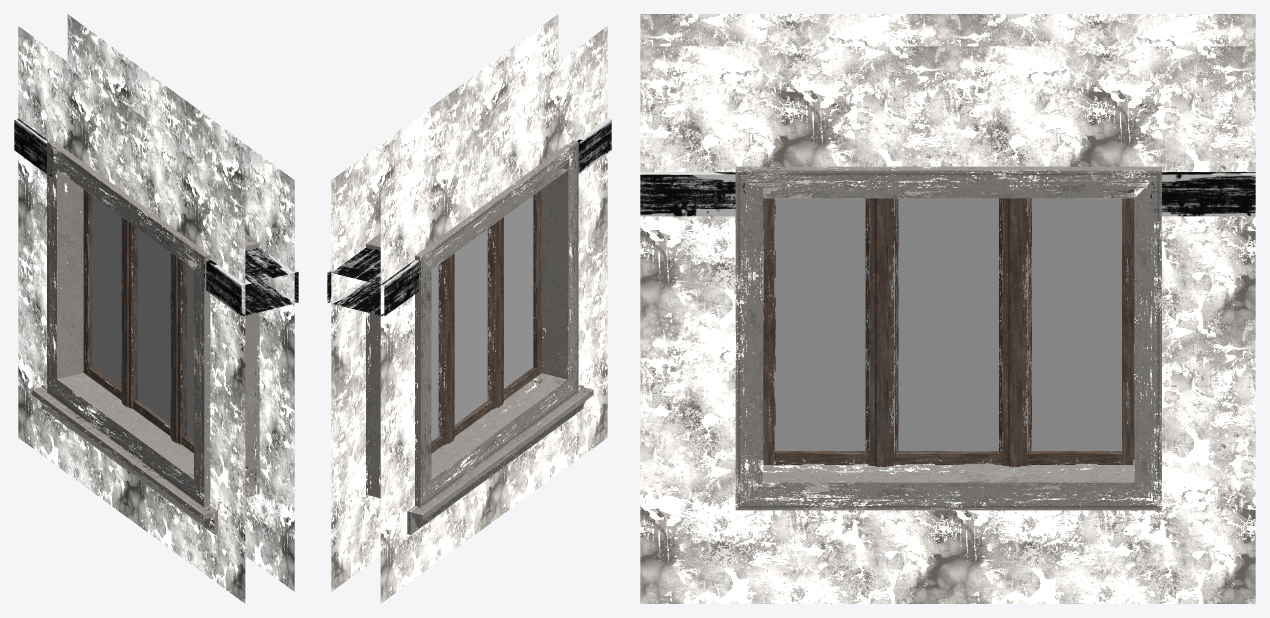
File: SM_wall_A_window_4x4_06_02.fbx
The picture shows the model from 3 angles, left to right: view 1: azimuth 30°, elevation 25°; view 2: azimuth 150°, elevation 25°; view 3: azimuth 270°, elevation 25°; orthographic projection. The views are drawn at different scales.
Visible parts, largest first — view 1: SM_wall_A_window_4x4_06_02_LOD0; view 2: SM_wall_A_window_4x4_06_02_LOD0; view 3: SM_wall_A_window_4x4_06_02_LOD0.
Boxes of the visible parts, x1,y1,x2,y2 form: SM_wall_A_window_4x4_06_02_LOD0: (14, 14, 298, 603); SM_wall_A_window_4x4_06_02_LOD0: (327, 14, 611, 603); SM_wall_A_window_4x4_06_02_LOD0: (640, 14, 1255, 603).
Size of the model in its own units: 70.71 by 400 by 400.
6 materials, 5 textured.
